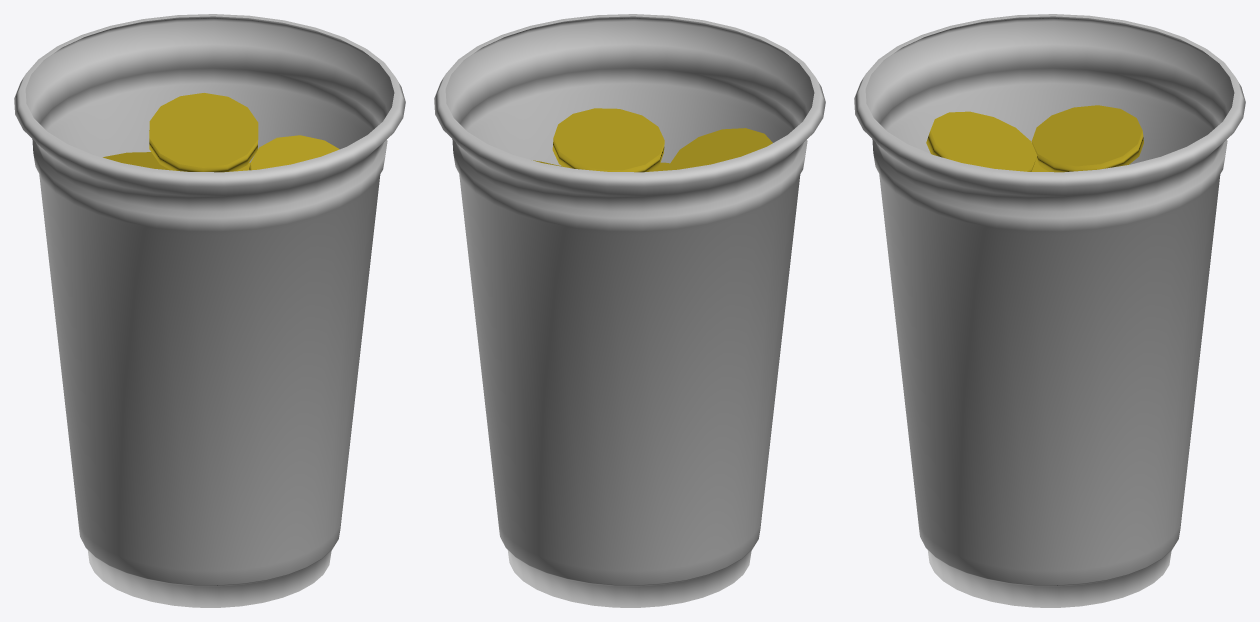
File: Cup-Ep4.fbx
The picture shows the model from 3 angles, left to right: view 1: azimuth 30°, elevation 25°; view 2: azimuth 150°, elevation 25°; view 3: azimuth 270°, elevation 25°; orthographic projection.
Parts seen in each view (by area): view 1: Cup; view 2: Cup; view 3: Cup.
Boxes of the visible parts, bbox=[...] form: Cup: bbox=[14, 14, 405, 607]; Cup: bbox=[434, 14, 825, 607]; Cup: bbox=[854, 14, 1245, 607].
Bounding box in the file's own units: 212 × 276 × 212.
